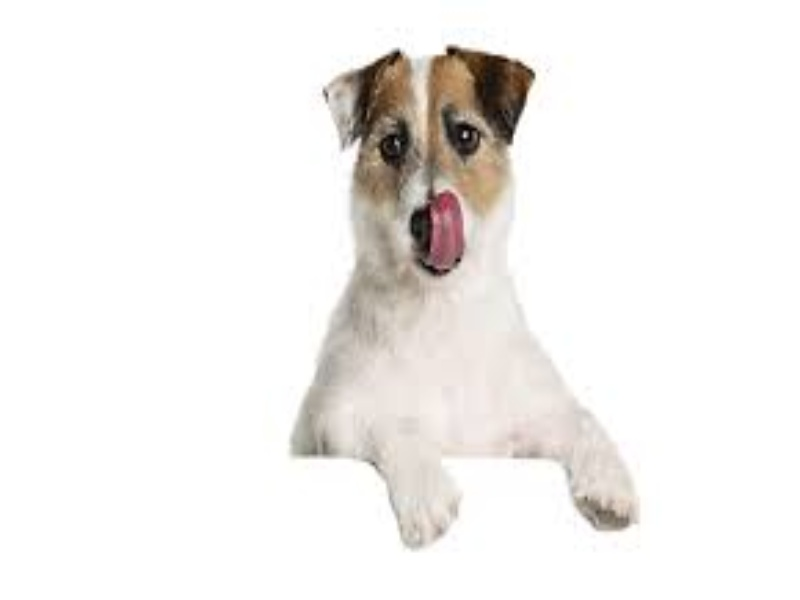dog: (290, 46, 655, 551)
